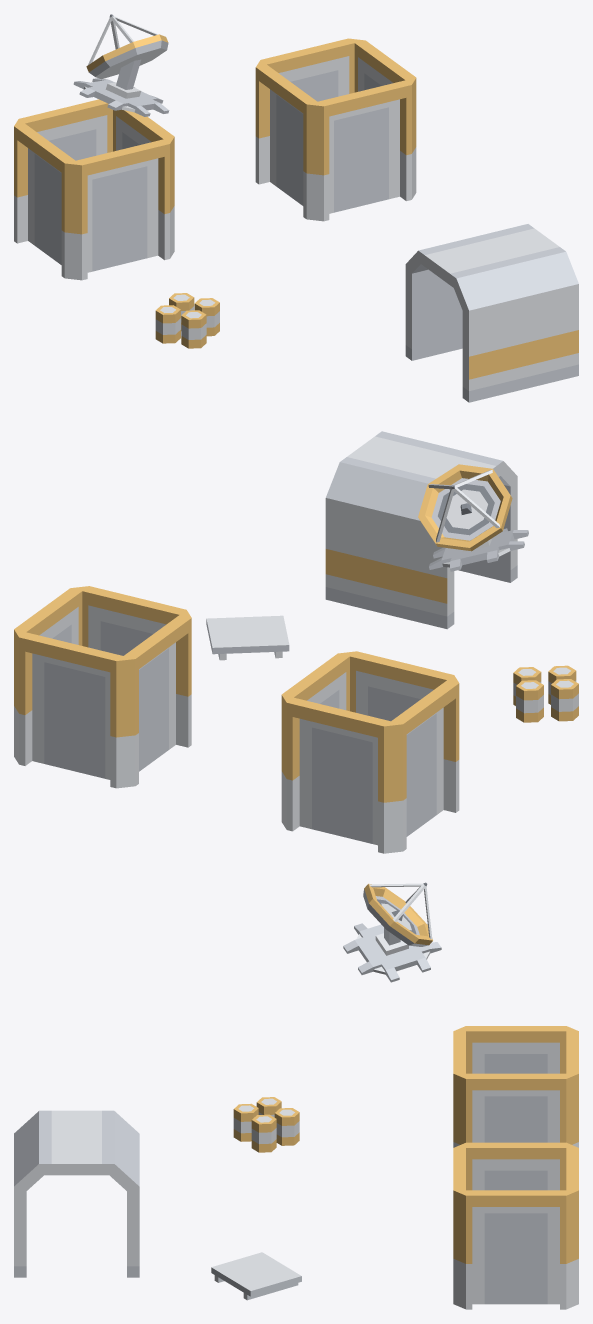
Rendered from poi_abandoned_lab.glb.
The picture shows the model from 3 angles, top to bottom: view 1: azimuth 30°, elevation 25°; view 2: azimuth 150°, elevation 25°; view 3: azimuth 270°, elevation 25°; orthographic projection. The views are drawn at different scales.
Parts seen in each view (by area): view 1: structure_closed.002, structure_closed.001, corridor.001, satelliteDish_detailed.001, barrel.009, barrel.010, barrel.011; view 2: structure_closed.001, structure_closed.002, corridor.001, satelliteDish_detailed.001, barrels.001, barrel.012, barrel.010; view 3: structure_closed.002, structure_closed.001, corridor.001, satelliteDish_detailed.001, barrels.001, barrel.011, barrel.012, barrel.009.
Boxes of the visible parts, x1=… form: structure_closed.002: x1=255, y1=38, x2=416, y2=221; structure_closed.001: x1=14, y1=99, x2=174, y2=280; corridor.001: x1=405, y1=224, x2=578, y2=402; satelliteDish_detailed.001: x1=73, y1=14, x2=169, y2=116; barrel.009: x1=181, y1=310, x2=206, y2=348; barrel.010: x1=155, y1=305, x2=180, y2=343; barrel.011: x1=194, y1=298, x2=219, y2=336; structure_closed.001: x1=281, y1=651, x2=459, y2=853; structure_closed.002: x1=14, y1=586, x2=191, y2=788; corridor.001: x1=325, y1=431, x2=517, y2=629; satelliteDish_detailed.001: x1=418, y1=464, x2=528, y2=571; barrels.001: x1=206, y1=615, x2=289, y2=660; barrel.012: x1=516, y1=680, x2=543, y2=722; barrel.010: x1=551, y1=679, x2=578, y2=721; structure_closed.002: x1=453, y1=1142, x2=578, y2=1309; structure_closed.001: x1=453, y1=1026, x2=578, y2=1147; corridor.001: x1=14, y1=1110, x2=139, y2=1277; satelliteDish_detailed.001: x1=343, y1=882, x2=441, y2=982; barrels.001: x1=211, y1=1252, x2=301, y2=1300; barrel.011: x1=251, y1=1114, x2=276, y2=1152; barrel.012: x1=274, y1=1108, x2=299, y2=1145; barrel.009: x1=233, y1=1103, x2=258, y2=1141.
Size of the model in its own units: 3.4 by 2.37 by 4.5.
